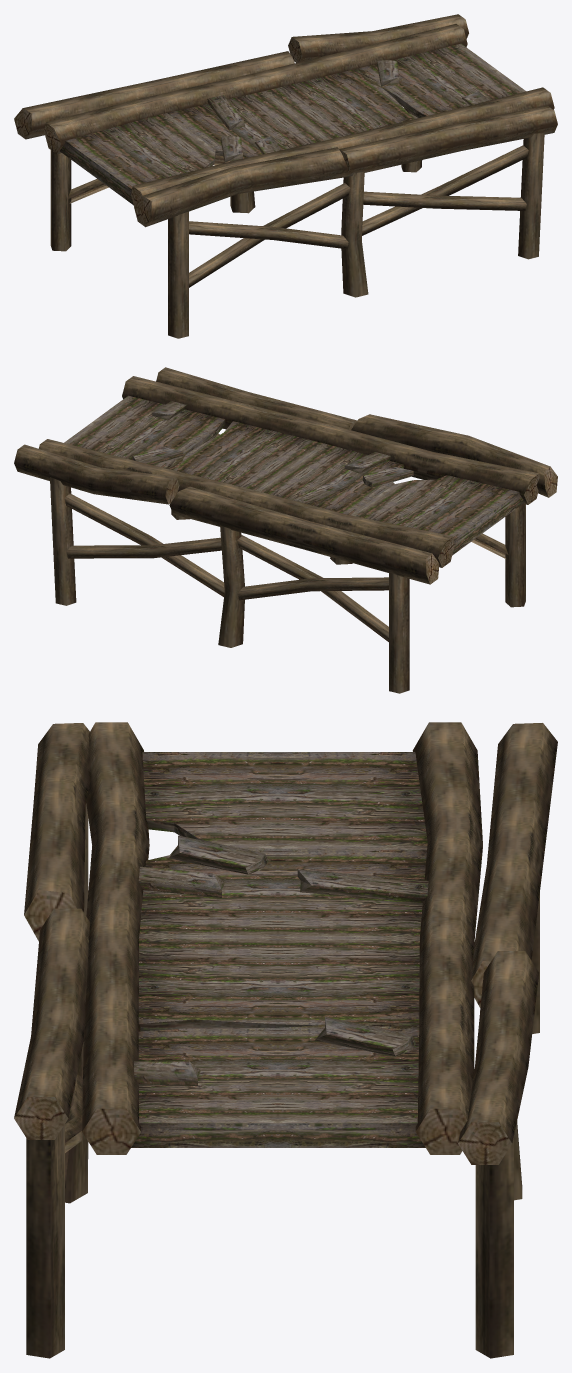
File: KQZD_diaoqiao_1.FBX
3 views of the same model, one above another, from view 1: azimuth 30°, elevation 25°; view 2: azimuth 150°, elevation 25°; view 3: azimuth 270°, elevation 25° (orthographic). The views are drawn at different scales.
Parts seen in each view (by area): view 1: KQZD_diaoqiao_1; view 2: KQZD_diaoqiao_1; view 3: KQZD_diaoqiao_1.
Boxes of the visible parts, left/top/right/bottom form: KQZD_diaoqiao_1: left=14, top=14, right=557, bottom=338; KQZD_diaoqiao_1: left=14, top=367, right=557, bottom=693; KQZD_diaoqiao_1: left=14, top=722, right=557, bottom=1358.
Size of the model in its own units: 947 by 542 by 323.
